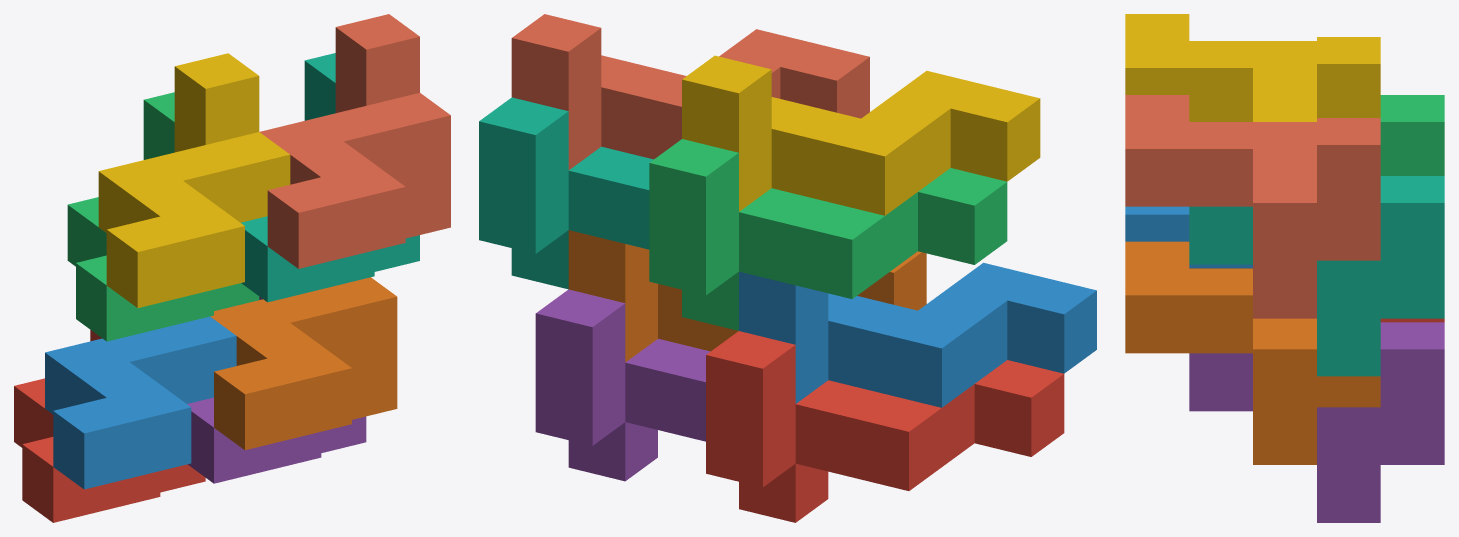
File: tiling.obj
The picture shows the model from 3 angles, left to right: view 1: azimuth 30°, elevation 25°; view 2: azimuth 150°, elevation 25°; view 3: azimuth 270°, elevation 25°; orthographic projection. The views are drawn at different scales.
Parts seen in each view (by area): view 1: copy_1_domain_8, copy_1_domain_4, copy_1_domain_6, copy_1_domain_2, copy_1_domain_3, copy_1_domain_1, copy_1_domain_7, copy_1_domain_5; view 2: copy_1_domain_1, copy_1_domain_3, copy_1_domain_4, copy_1_domain_2, copy_1_domain_8, copy_1_domain_5, copy_1_domain_7, copy_1_domain_6; view 3: copy_1_domain_8, copy_1_domain_6, copy_1_domain_4, copy_1_domain_7, copy_1_domain_5, copy_1_domain_3, copy_1_domain_2.
Part boxes in pixels (bbox=[...]): copy_1_domain_8: bbox=[260, 14, 450, 268]; copy_1_domain_4: bbox=[98, 53, 290, 307]; copy_1_domain_6: bbox=[210, 277, 397, 450]; copy_1_domain_2: bbox=[45, 316, 236, 489]; copy_1_domain_3: bbox=[67, 92, 259, 341]; copy_1_domain_1: bbox=[14, 330, 205, 522]; copy_1_domain_7: bbox=[241, 53, 419, 302]; copy_1_domain_5: bbox=[187, 296, 366, 483]; copy_1_domain_1: bbox=[706, 331, 1064, 522]; copy_1_domain_3: bbox=[649, 139, 1007, 330]; copy_1_domain_4: bbox=[682, 55, 1040, 215]; copy_1_domain_2: bbox=[739, 262, 1096, 407]; copy_1_domain_8: bbox=[511, 14, 869, 169]; copy_1_domain_5: bbox=[535, 289, 710, 481]; copy_1_domain_7: bbox=[479, 97, 653, 289]; copy_1_domain_6: bbox=[568, 230, 926, 362]; copy_1_domain_8: bbox=[1125, 95, 1380, 318]; copy_1_domain_6: bbox=[1125, 241, 1380, 464]; copy_1_domain_4: bbox=[1125, 14, 1380, 121]; copy_1_domain_7: bbox=[1189, 176, 1444, 376]; copy_1_domain_5: bbox=[1189, 322, 1444, 522]; copy_1_domain_3: bbox=[1380, 95, 1444, 175]; copy_1_domain_2: bbox=[1125, 206, 1252, 268].
Bounding box in the file's own units: 8 × 7 × 5.
